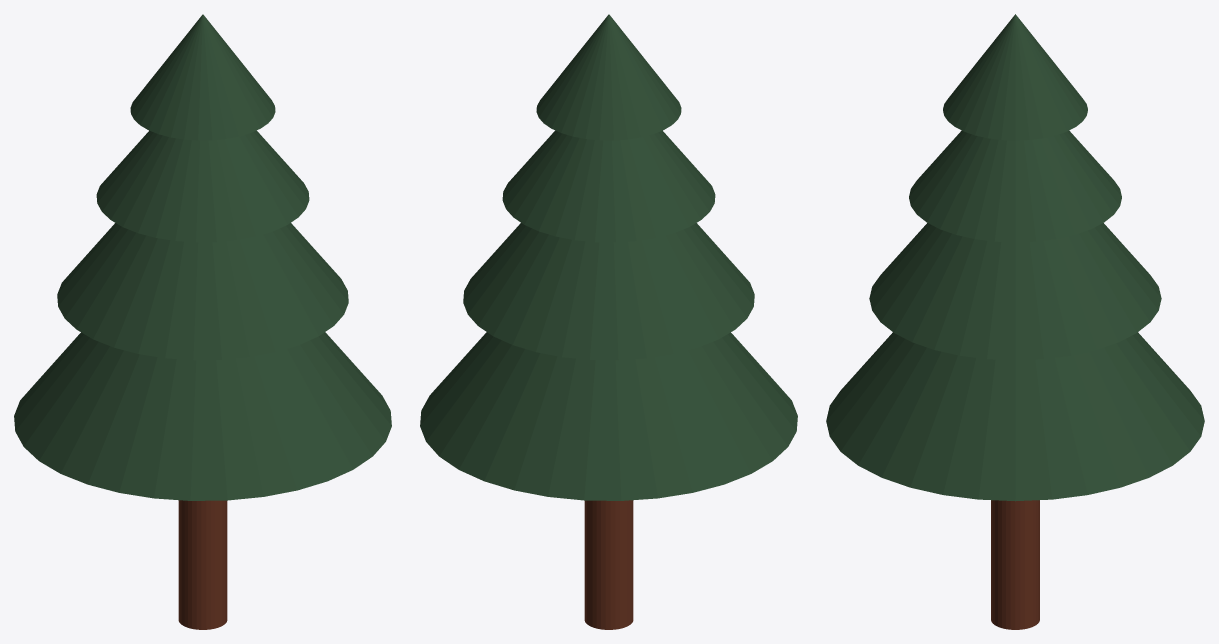
The model's file is PineTree_MY_ASSET.fbx.
The picture shows the model from 3 angles, left to right: view 1: azimuth 30°, elevation 25°; view 2: azimuth 150°, elevation 25°; view 3: azimuth 270°, elevation 25°; orthographic projection.
Parts seen in each view (by area): view 1: Cylinder; view 2: Cylinder; view 3: Cylinder.
Boxes of the visible parts, bbox=[...] form: Cylinder: bbox=[14, 14, 391, 629]; Cylinder: bbox=[420, 14, 797, 629]; Cylinder: bbox=[826, 14, 1204, 629].
Bounding box in the file's own units: 868 × 1531 × 868.
